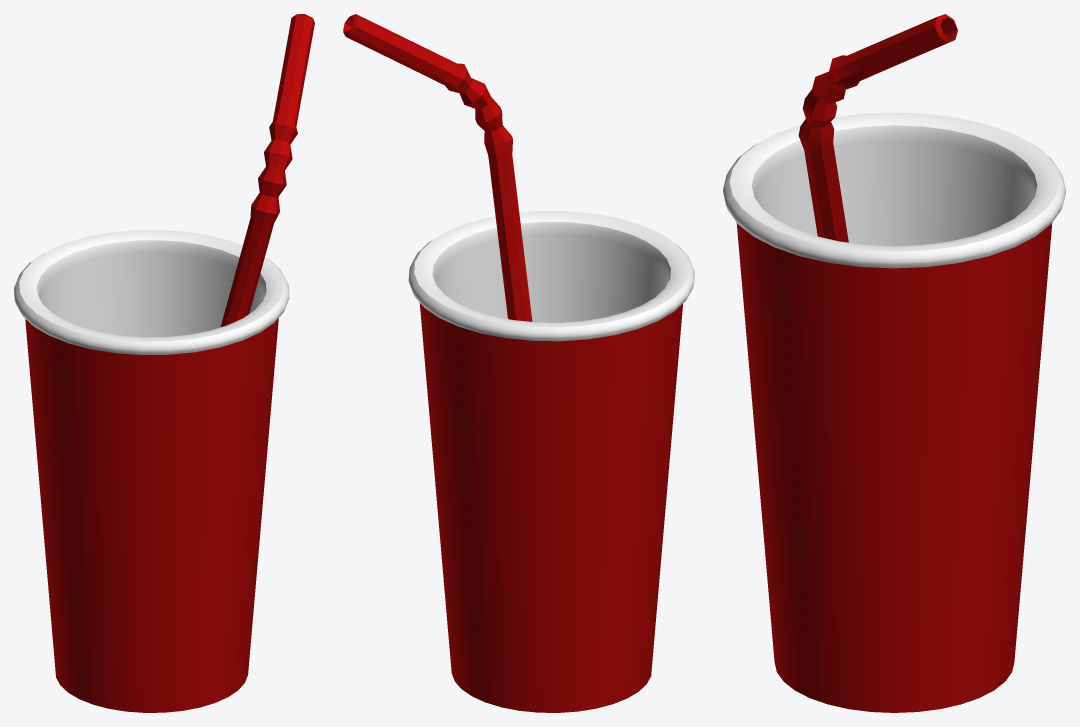
The model's file is Drinks_07.glb.
The picture shows the model from 3 angles, left to right: view 1: azimuth 30°, elevation 25°; view 2: azimuth 150°, elevation 25°; view 3: azimuth 270°, elevation 25°; orthographic projection. The views are drawn at different scales.
Visible parts, largest first — view 1: Mesh_Drinks_07; view 2: Mesh_Drinks_07; view 3: Mesh_Drinks_07.
Boxes of the visible parts, x1,y1,x2,y2 form: Mesh_Drinks_07: [14, 14, 314, 712]; Mesh_Drinks_07: [343, 14, 694, 712]; Mesh_Drinks_07: [723, 14, 1065, 712].
Bounding box in the file's own units: 0.1349 × 0.2586 × 0.1073.
Materials: 1 (1 with a texture image).
